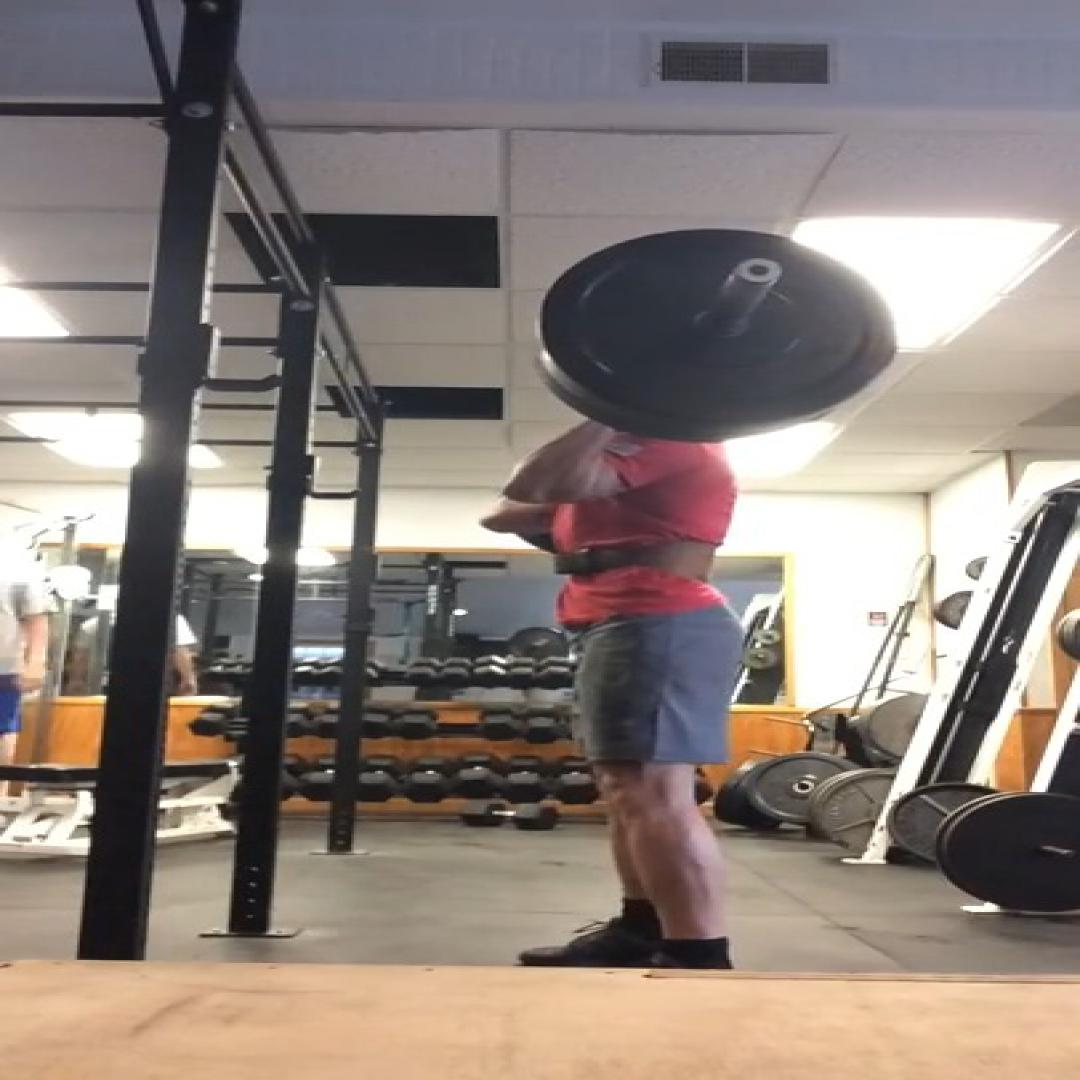Bar: (737, 258, 782, 284)
Barbell: (543, 229, 894, 422)
